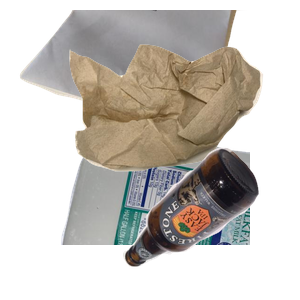glass: (120, 145, 300, 300)
paper: (17, 10, 254, 141)
plastic: (58, 120, 298, 300)
trash: (67, 42, 300, 206)
